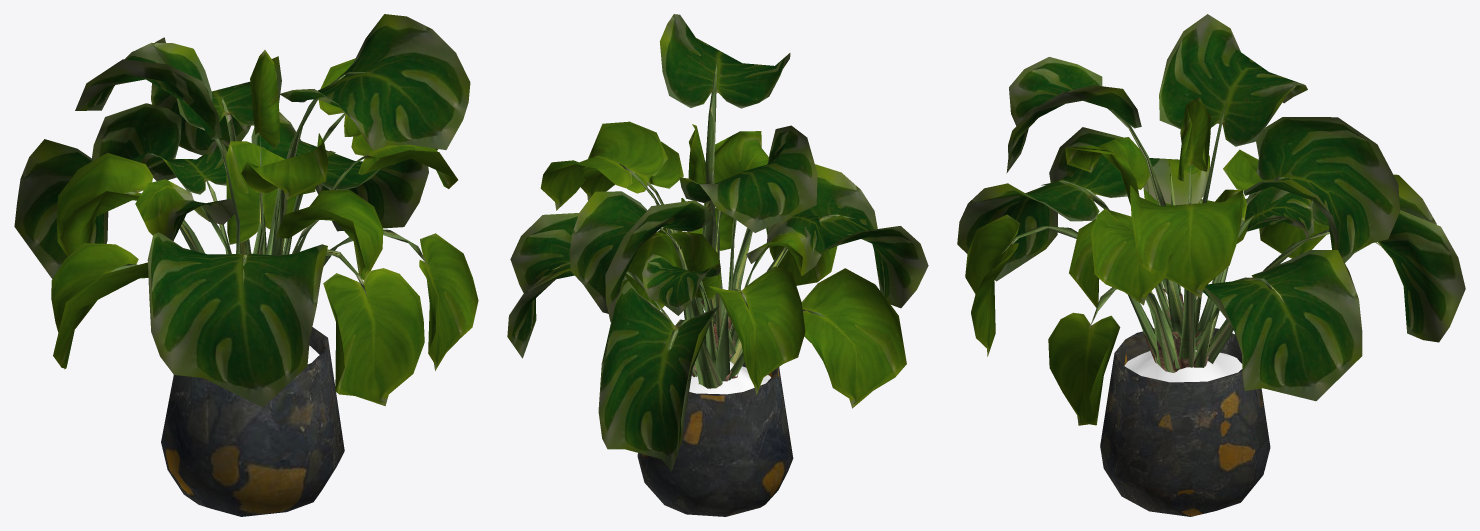
File: plant-bush-small.glb
3 renders of one model, left to right at view 1: azimuth 30°, elevation 25°; view 2: azimuth 150°, elevation 25°; view 3: azimuth 270°, elevation 25°, orthographic. The views are drawn at different scales.
Parts seen in each view (by area): view 1: Outdoor Garden set bush and Tree - Garden Set 54_25.001_leav, Outdoor Garden set bush and Tree - Garden Set 54_25.001_Mate, Outdoor Garden set bush and Tree - Garden Set 54_25.001_body; view 2: Outdoor Garden set bush and Tree - Garden Set 54_25.001_leav, Outdoor Garden set bush and Tree - Garden Set 54_25.001_Mate, Outdoor Garden set bush and Tree - Garden Set 54_25.001_body, Outdoor Garden set bush and Tree - Garden Set 54_25.001_soil; view 3: Outdoor Garden set bush and Tree - Garden Set 54_25.001_leav, Outdoor Garden set bush and Tree - Garden Set 54_25.001_Mate, Outdoor Garden set bush and Tree - Garden Set 54_25.001_body (×2), Outdoor Garden set bush and Tree - Garden Set 54_25.001_soil.
Part boxes in pixels (x1=…): Outdoor Garden set bush and Tree - Garden Set 54_25.001_leav: x1=14, y1=14, x2=478, y2=407; Outdoor Garden set bush and Tree - Garden Set 54_25.001_Mate: x1=161, y1=327, x2=344, y2=516; Outdoor Garden set bush and Tree - Garden Set 54_25.001_body: x1=110, y1=72, x2=428, y2=297; Outdoor Garden set bush and Tree - Garden Set 54_25.001_leav: x1=507, y1=14, x2=928, y2=471; Outdoor Garden set bush and Tree - Garden Set 54_25.001_Mate: x1=637, y1=362, x2=793, y2=516; Outdoor Garden set bush and Tree - Garden Set 54_25.001_body: x1=552, y1=60, x2=855, y2=388; Outdoor Garden set bush and Tree - Garden Set 54_25.001_soil: x1=689, y1=361, x2=770, y2=394; Outdoor Garden set bush and Tree - Garden Set 54_25.001_leav: x1=957, y1=14, x2=1465, y2=425; Outdoor Garden set bush and Tree - Garden Set 54_25.001_Mate: x1=1100, y1=328, x2=1270, y2=516; Outdoor Garden set bush and Tree - Garden Set 54_25.001_body (×2): x1=1002, y1=103, x2=1380, y2=372; Outdoor Garden set bush and Tree - Garden Set 54_25.001_soil: x1=1124, y1=350, x2=1242, y2=382.
Bounding box in the file's own units: 0.3217 × 0.3626 × 0.3619.
Materials: 5 (4 with a texture image).
